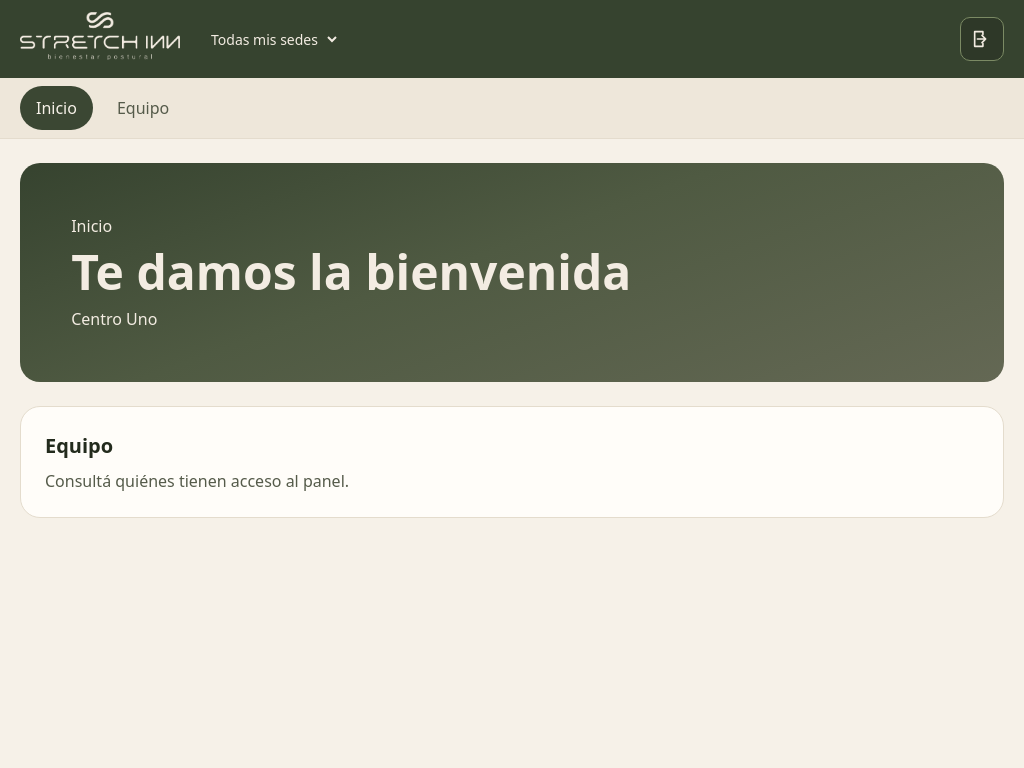
Test: acciones de cada persona › nueva clave temporal: pide confirmación y muestra la clave
Click the link "Equipo". click: {"x": 143, "y": 108}
box: [117,97,169,119]
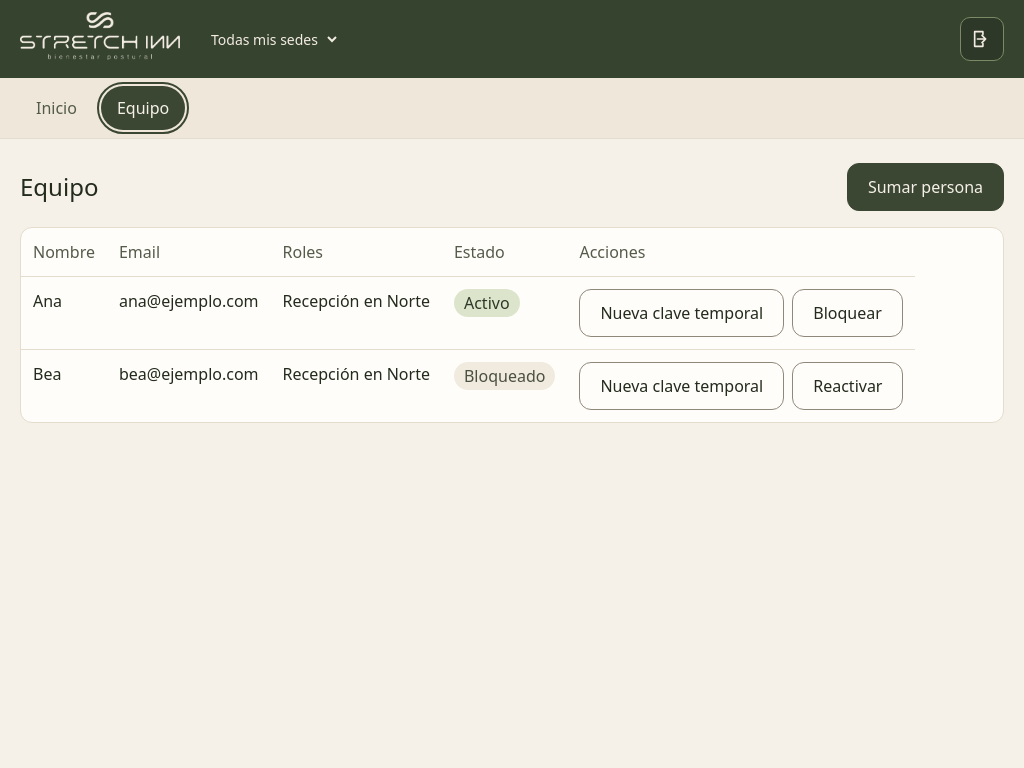
Expected: the heading "Equipo" is shown, [20,169,98,205]
Click the button "Nueva clave temporal" in the row of "ana@ejemplo.com". click: {"x": 682, "y": 313}
box: [579,289,784,337]
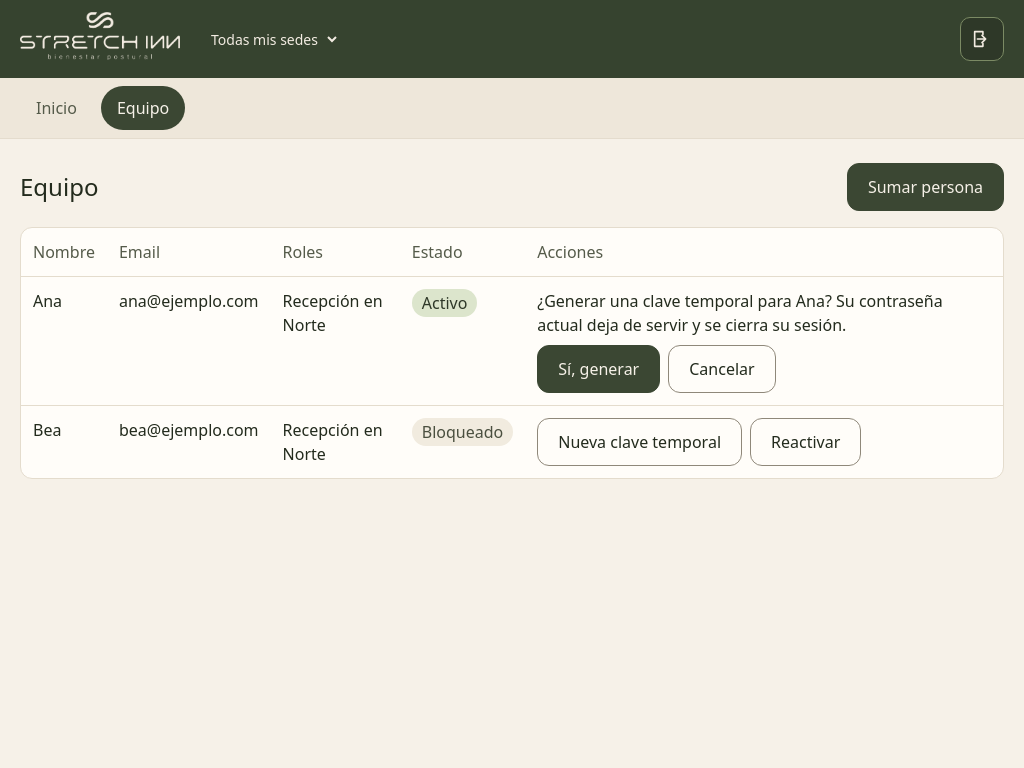
Now the text "Su contraseña actual deja de servir" is shown, box [537,290,943,336]
Click the button "Sí, generar". click: {"x": 599, "y": 369}
box: [537,345,660,393]
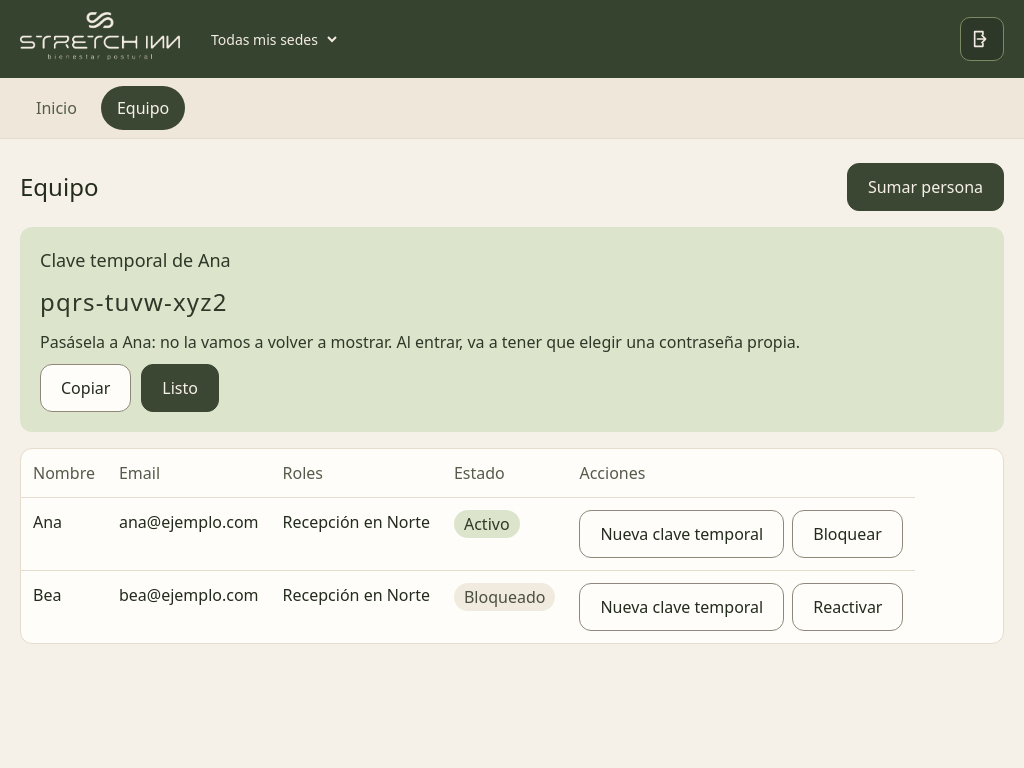
Now the text "pqrs-tuvw-xyz2" is shown, box [40,285,228,318]
